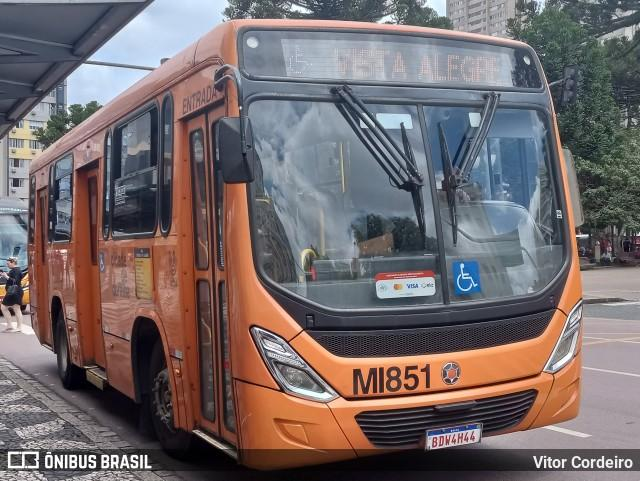VISTA ALEGRE: (325, 43, 509, 89)
